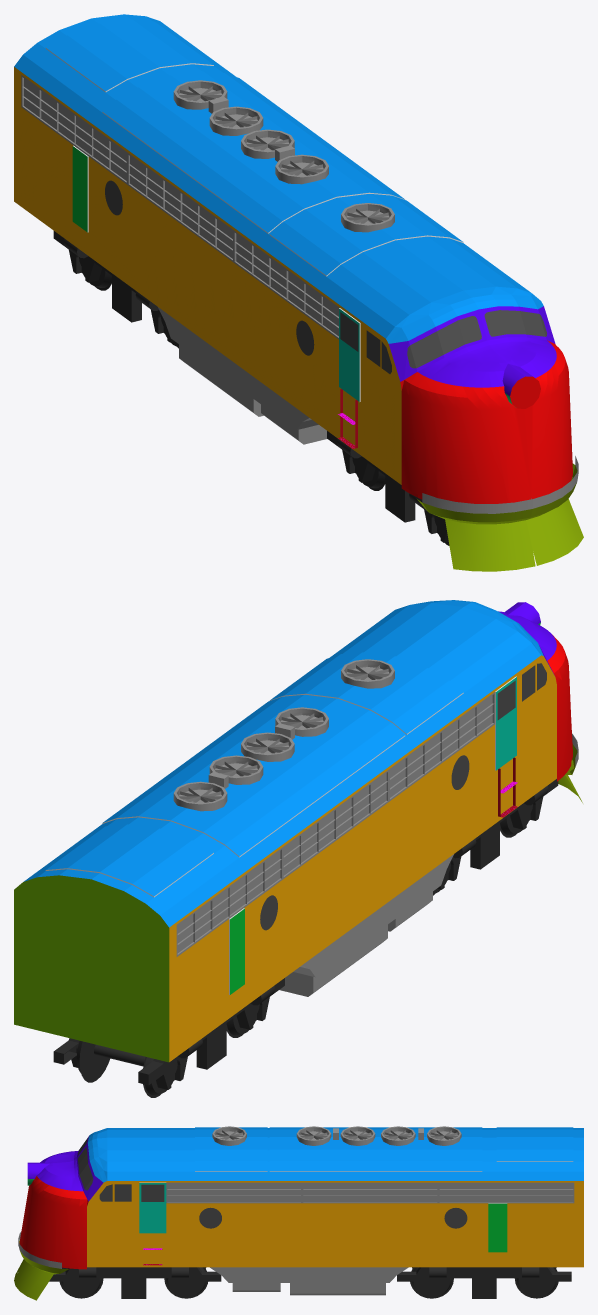
The picture shows the model from 3 angles, top to bottom: view 1: azimuth 30°, elevation 25°; view 2: azimuth 150°, elevation 25°; view 3: azimuth 270°, elevation 25°; orthographic projection. The views are drawn at different scales.
Parts seen in each view (by area): view 1: body_half (×21), side-grid (×3), bogie-mechanism-half (×4); view 2: body_half (×16), side-grid (×3), bogie-mechanism-half (×4), fan (×3), wheel_half; view 3: body_half (×22), side-grid (×6), bogie-mechanism-half (×4), fan (×5), wheel_half (×2).
Boxes of the visible parts, bbox=[...] form: body_half (×21): bbox=[14, 14, 583, 571]; side-grid (×3): bbox=[22, 77, 338, 337]; bogie-mechanism-half (×4): bbox=[53, 231, 448, 542]; body_half (×16): bbox=[14, 600, 572, 1062]; side-grid (×3): bbox=[177, 694, 494, 954]; bogie-mechanism-half (×4): bbox=[138, 779, 558, 1089]; fan (×3): bbox=[173, 659, 394, 811]; wheel_half: bbox=[76, 1041, 108, 1079]; body_half (×22): bbox=[14, 1127, 583, 1300]; side-grid (×6): bbox=[166, 1182, 574, 1203]; bogie-mechanism-half (×4): bbox=[49, 1267, 571, 1298]; fan (×5): bbox=[212, 1126, 461, 1145]; wheel_half (×2): bbox=[166, 1267, 556, 1296].
Size of the model in its own units: 126 by 586 by 179.
